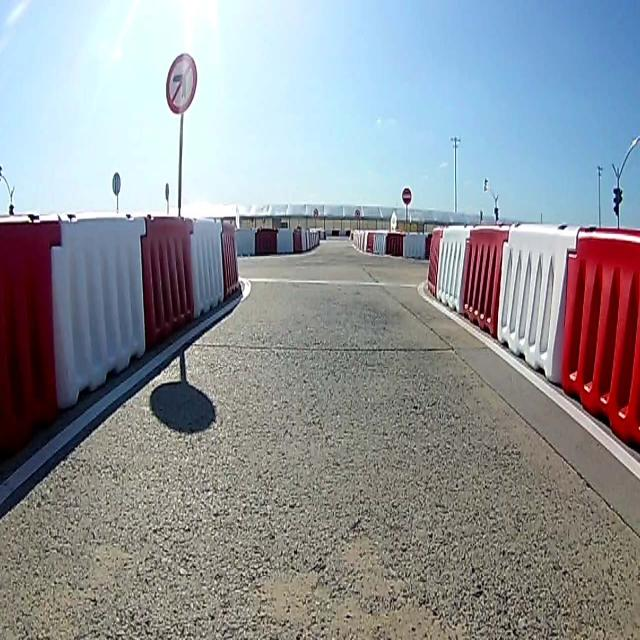girisyok: (402, 187, 412, 208)
soladonulmez: (165, 53, 196, 111)
